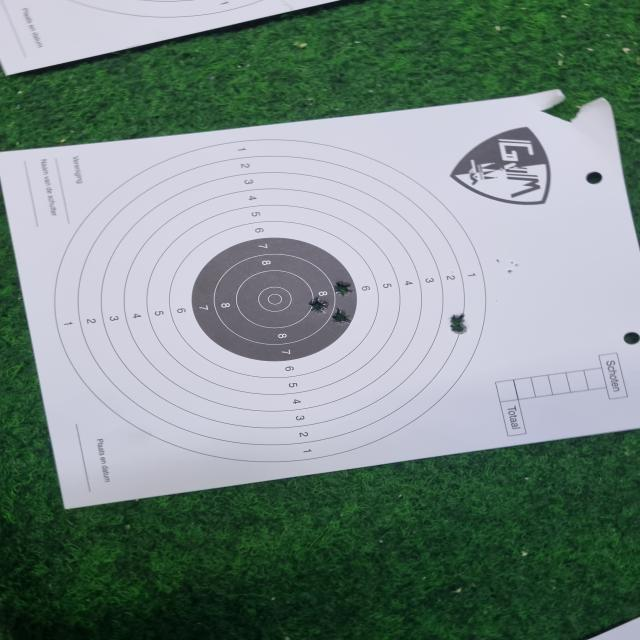2: (452, 323, 467, 334), (451, 314, 465, 324)
7: (332, 308, 352, 324), (333, 281, 352, 297)
9: (309, 296, 328, 314)
Target: (55, 139, 488, 463)
black_contour: (191, 237, 358, 362)
